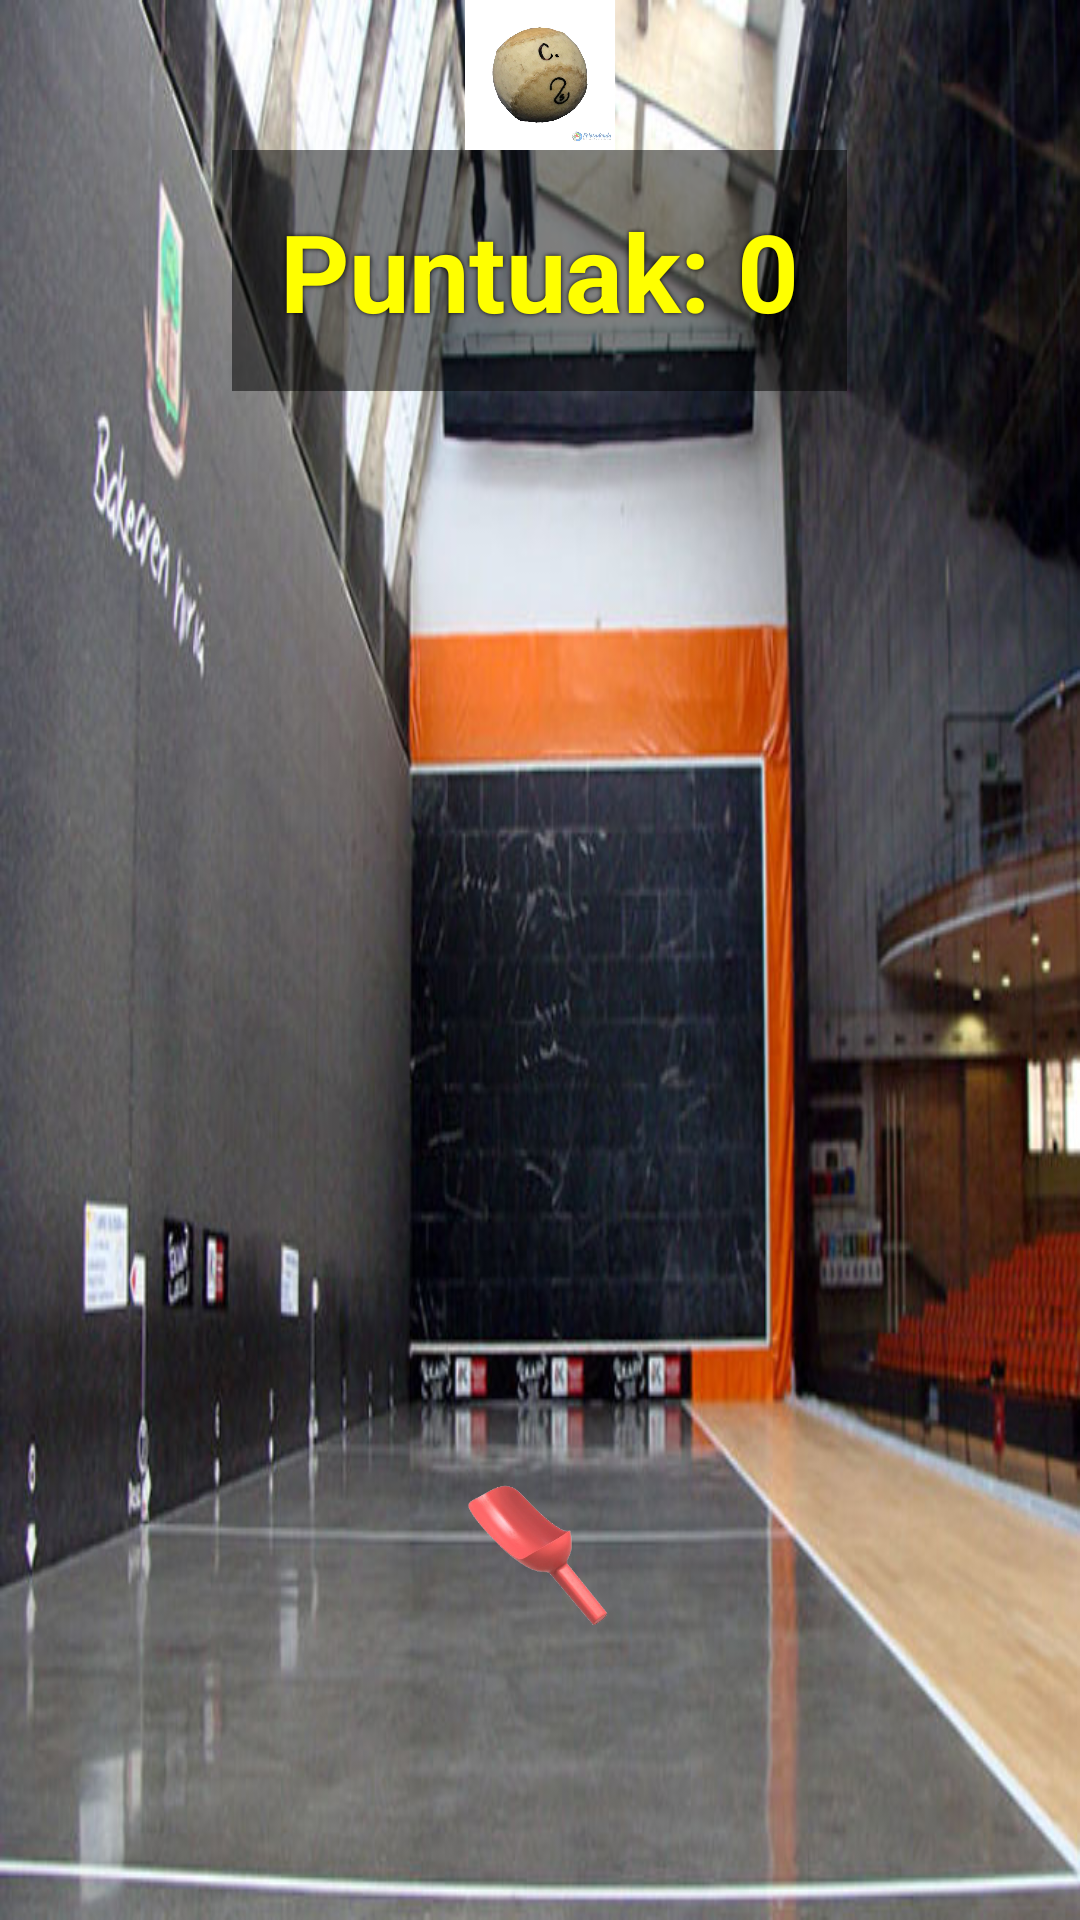

Where to tap for icons on this 1080w x 1920h app screen, as (x,y):
fronton pilota: (540,75)
